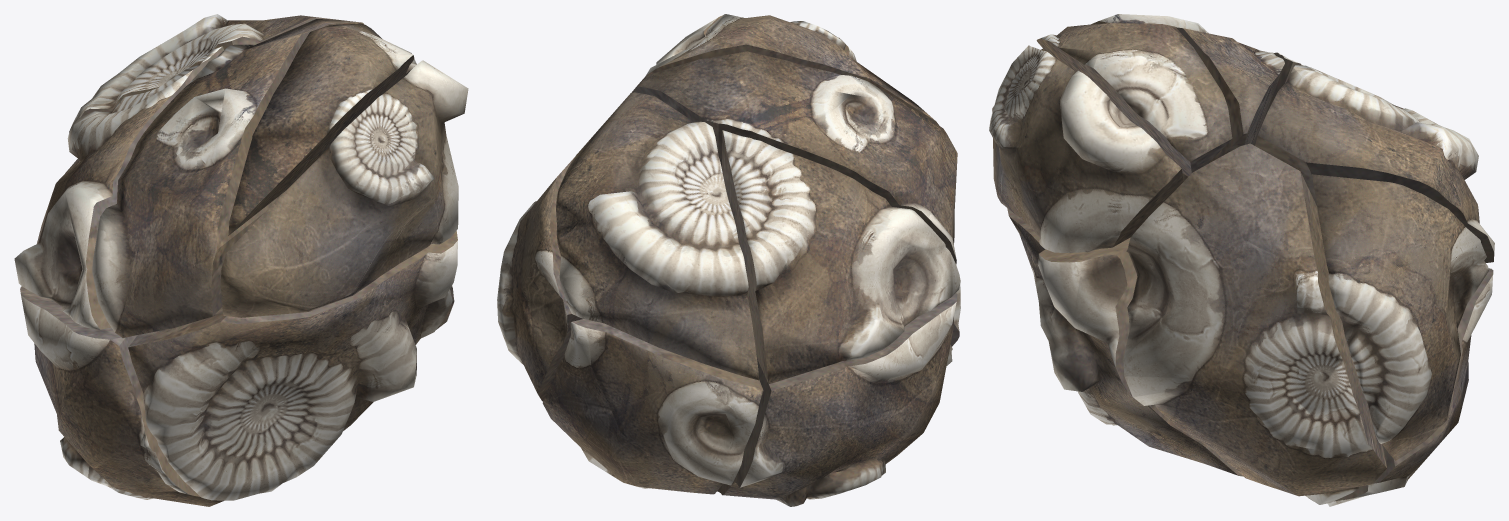
File: SM_FossilNode_3_Pieces.fbx
3 views of the same model, side by side, from view 1: azimuth 30°, elevation 25°; view 2: azimuth 150°, elevation 25°; view 3: azimuth 270°, elevation 25° (orthographic). The views are drawn at different scales.
Visible parts, largest first — view 1: SM_FossilNode_3_Pieces_4, SM_FossilNode_3_Pieces_8, SM_FossilNode_3_Pieces_3, SM_FossilNode_3_Pieces_1, SM_FossilNode_3_Pieces_7, SM_FossilNode_3_Pieces_2, SM_FossilNode_3_Pieces_5; view 2: SM_FossilNode_3_Pieces_5, SM_FossilNode_3_Pieces_2, SM_FossilNode_3_Pieces_3, SM_FossilNode_3_Pieces_6, SM_FossilNode_3_Pieces_1, SM_FossilNode_3_Pieces_10, SM_FossilNode_3_Pieces_7, SM_FossilNode_3_Pieces_8; view 3: SM_FossilNode_3_Pieces_9, SM_FossilNode_3_Pieces_10, SM_FossilNode_3_Pieces_8, SM_FossilNode_3_Pieces_5, SM_FossilNode_3_Pieces_4, SM_FossilNode_3_Pieces_7, SM_FossilNode_3_Pieces_3, SM_FossilNode_3_Pieces_6, SM_FossilNode_3_Pieces_2.
Part boxes in pixels (<box>): SM_FossilNode_3_Pieces_4: <box>128,231,457,500</box>; SM_FossilNode_3_Pieces_8: <box>220,60,468,317</box>; SM_FossilNode_3_Pieces_3: <box>92,19,363,337</box>; SM_FossilNode_3_Pieces_1: <box>20,286,223,506</box>; SM_FossilNode_3_Pieces_7: <box>228,23,416,235</box>; SM_FossilNode_3_Pieces_2: <box>14,46,223,329</box>; SM_FossilNode_3_Pieces_5: <box>65,14,344,173</box>; SM_FossilNode_3_Pieces_5: <box>556,92,758,380</box>; SM_FossilNode_3_Pieces_2: <box>721,130,960,383</box>; SM_FossilNode_3_Pieces_3: <box>631,51,957,264</box>; SM_FossilNode_3_Pieces_6: <box>542,319,763,494</box>; SM_FossilNode_3_Pieces_1: <box>717,293,957,506</box>; SM_FossilNode_3_Pieces_10: <box>497,157,582,401</box>; SM_FossilNode_3_Pieces_7: <box>646,14,939,125</box>; SM_FossilNode_3_Pieces_8: <box>656,15,856,64</box>; SM_FossilNode_3_Pieces_9: <box>1123,143,1386,504</box>; SM_FossilNode_3_Pieces_10: <box>1312,174,1488,460</box>; SM_FossilNode_3_Pieces_8: <box>989,45,1183,252</box>; SM_FossilNode_3_Pieces_5: <box>1255,65,1494,262</box>; SM_FossilNode_3_Pieces_4: <box>1007,208,1242,476</box>; SM_FossilNode_3_Pieces_7: <box>1036,22,1232,176</box>; SM_FossilNode_3_Pieces_3: <box>1091,14,1284,181</box>; SM_FossilNode_3_Pieces_6: <box>1309,268,1493,506</box>; SM_FossilNode_3_Pieces_2: <box>1254,52,1403,145</box>.
Size of the model in its own units: 0.8084 by 0.8767 by 0.8352.
